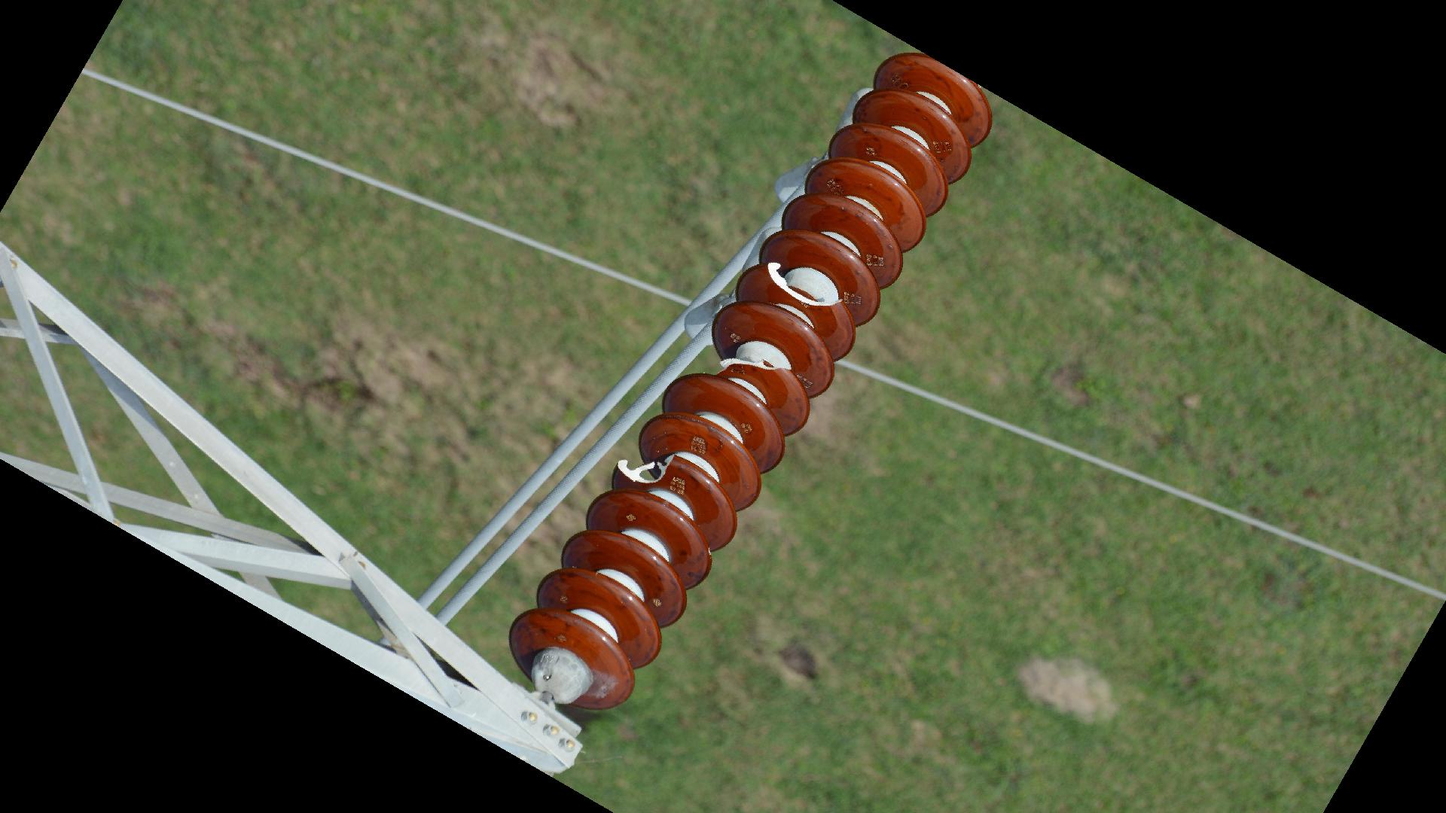insulator: (505, 44, 996, 719)
insulator_breakage: (761, 258, 848, 313), (611, 449, 691, 497), (710, 354, 793, 379)
